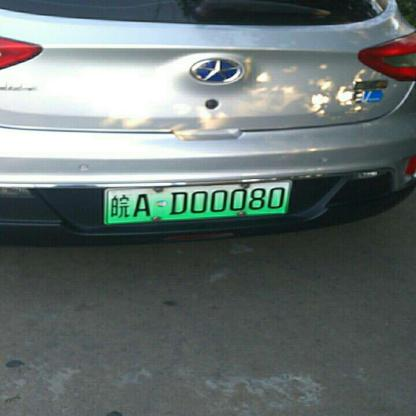lp: (107, 180, 288, 222)
